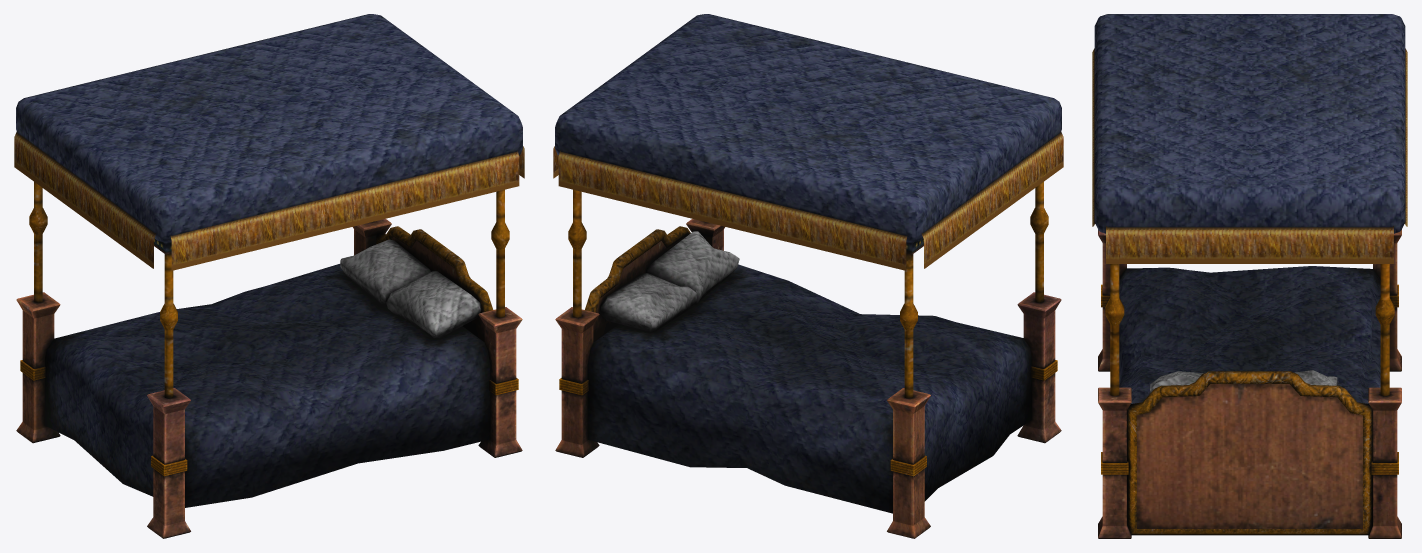
File: bed_nice_blue.dae
3 renders of one model, left to right at view 1: azimuth 30°, elevation 25°; view 2: azimuth 150°, elevation 25°; view 3: azimuth 270°, elevation 25°, orthographic. The views are drawn at different scales.
Parts seen in each view (by area): view 1: bed_nice_mesh; view 2: bed_nice_mesh; view 3: bed_nice_mesh.
Part boxes in pixels (x1,y1,x2,y2): bed_nice_mesh: (14, 14, 524, 538); bed_nice_mesh: (553, 14, 1063, 538); bed_nice_mesh: (1092, 14, 1407, 538).
Size of the model in its own units: 3.42 by 2.95 by 2.43.
